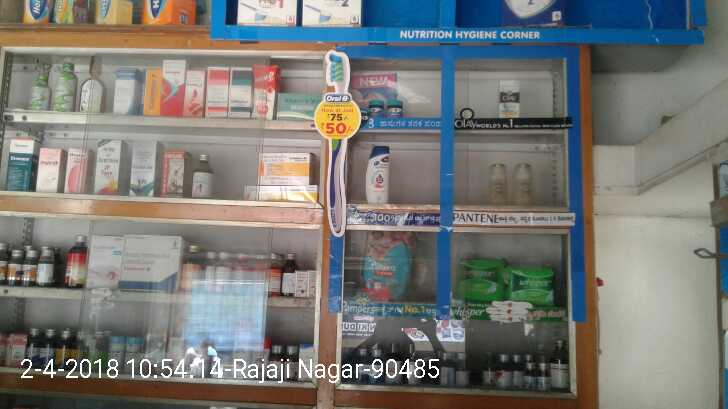vicks: (353, 95, 406, 121)
